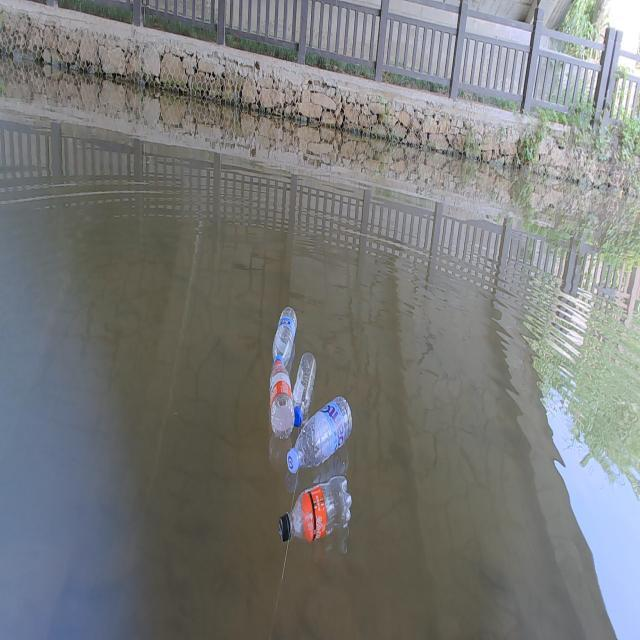garbage: (286, 395, 352, 473), (278, 475, 352, 543), (269, 353, 295, 439), (292, 351, 317, 427), (271, 305, 297, 369)
